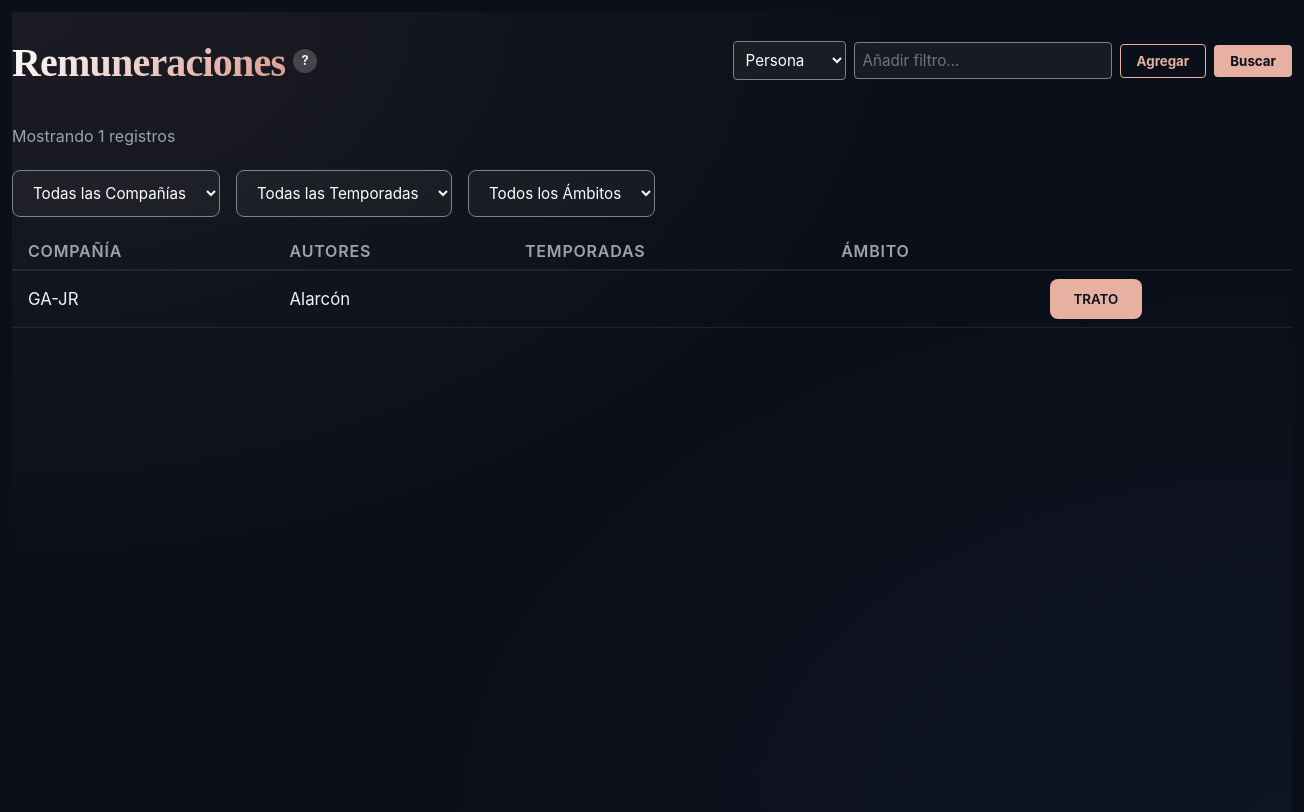
Scenario: aviso de enlace roto en Remuneraciones › se anuncia como alerta y su botón «Cerrar» usa los tokens de contraste
Expected: the text "Mostrando 1 registros" is shown, [12,126,175,146]
Select "Persona" in the dropdown named "Buscar en": (789, 61) [733,41,846,80]
In the field with placeholder "Añadir filtro...": (983, 61) [854,42,1112,79], type "Alarcón"
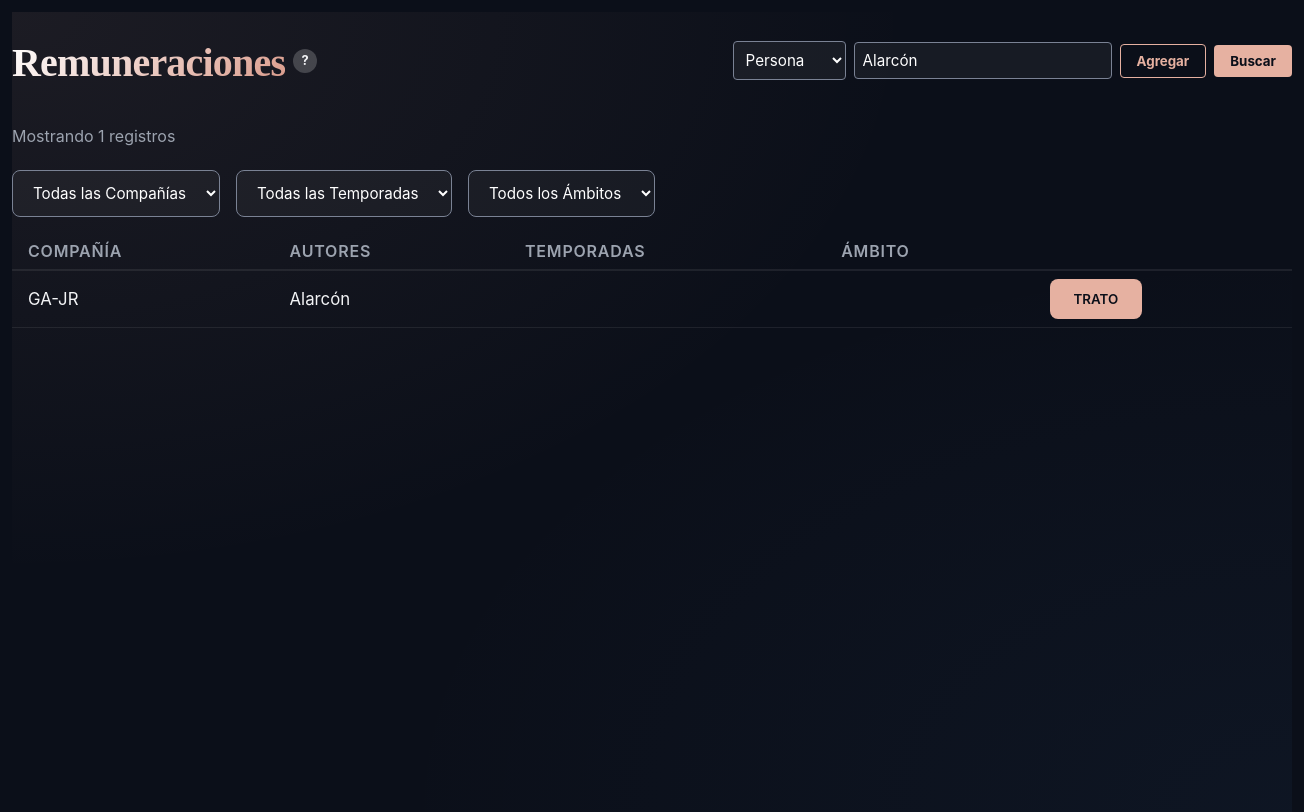
Click the button "Buscar": click(1253, 61) [1214,45,1292,77]
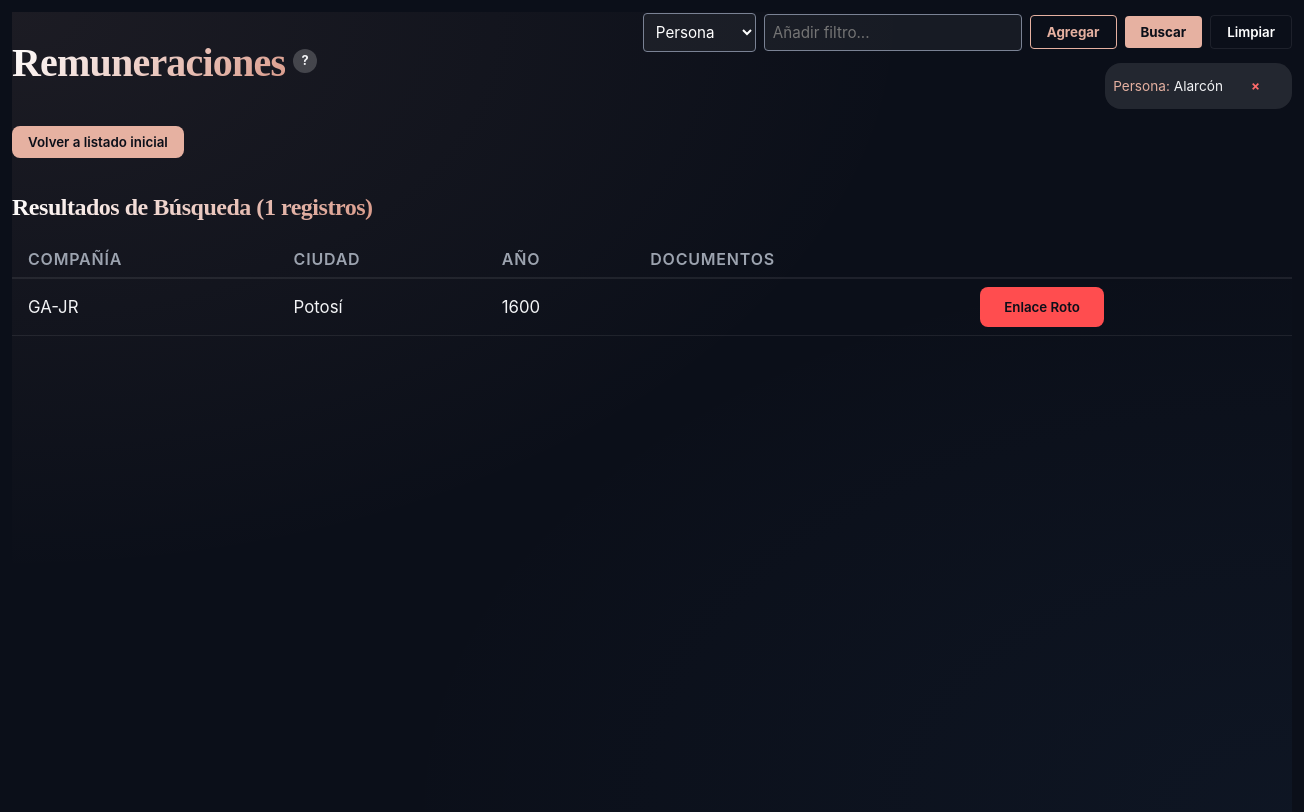
Click the button "Enlace Roto": click(1042, 307) [980,287,1104,327]
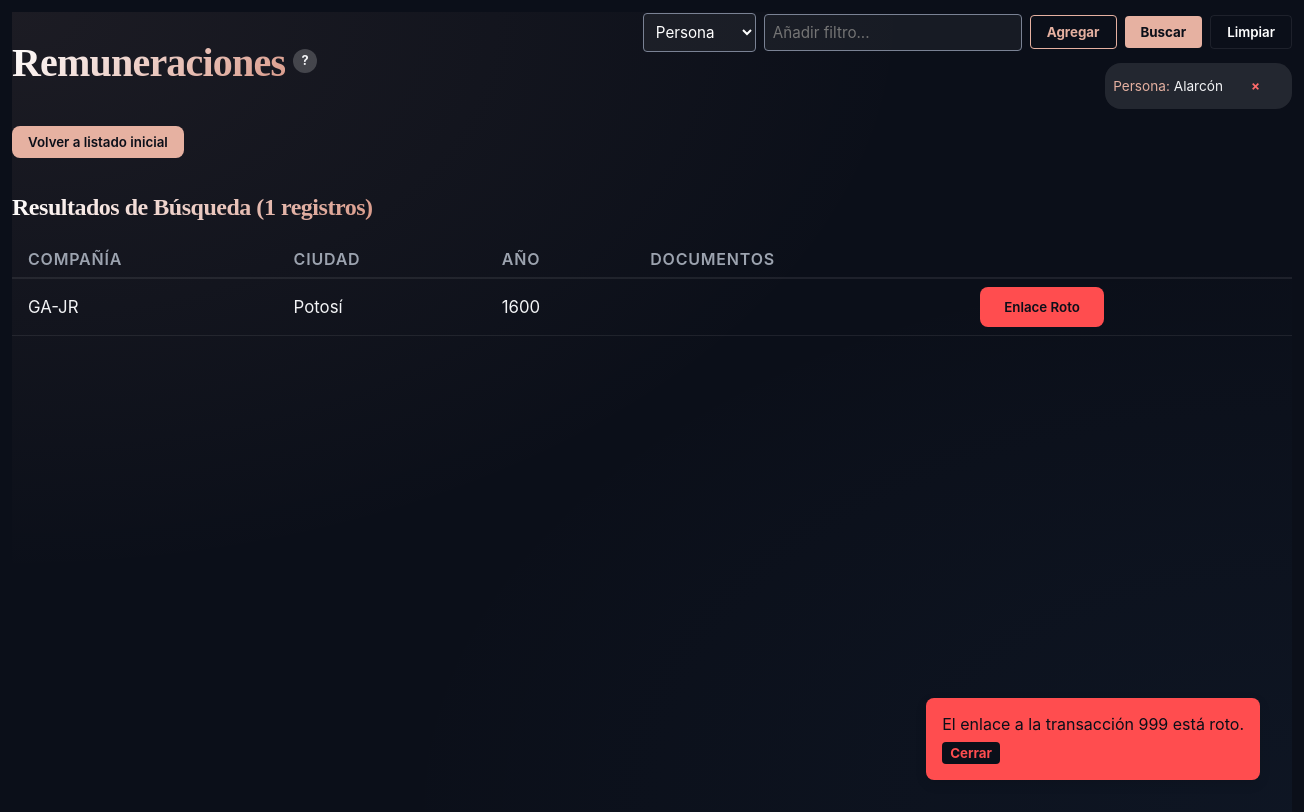
Expected: the message reads "El enlace a la transacción 999 está roto.", [942,714,1244,734]
